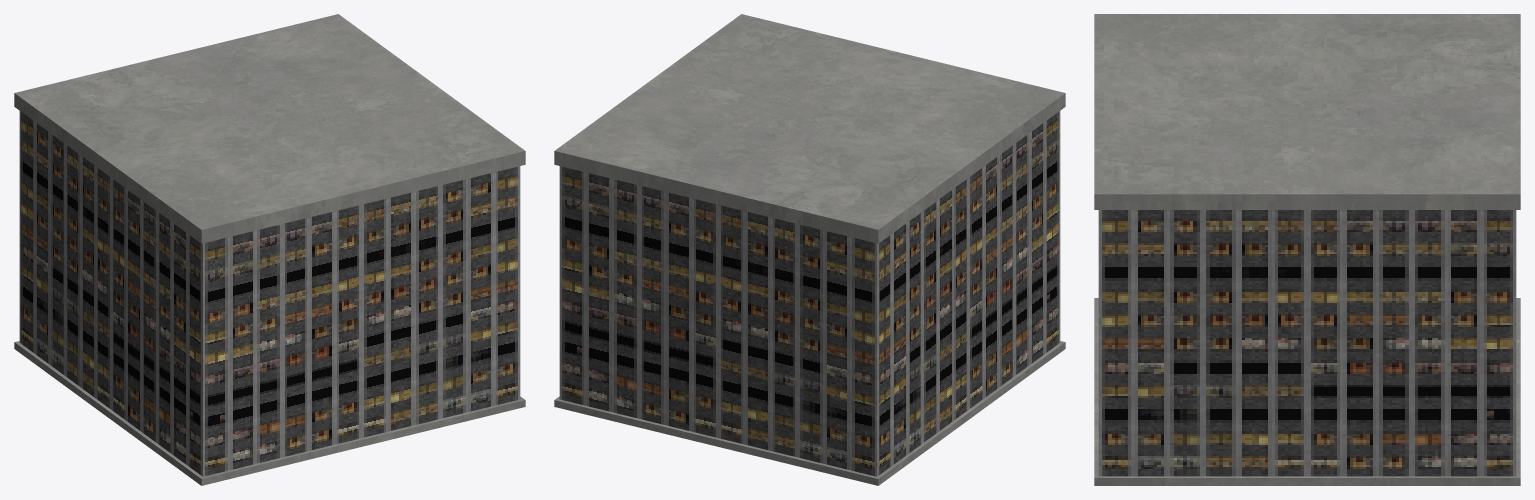
Rendered from building_01.4.glb.
3 views of the same model, side by side, from view 1: azimuth 30°, elevation 25°; view 2: azimuth 150°, elevation 25°; view 3: azimuth 270°, elevation 25° (orthographic). The views are drawn at different scales.
Visible parts, largest first — view 1: building_01_42; view 2: building_01_42; view 3: building_01_42.
Boxes of the visible parts, x1,y1,x2,y2 form: building_01_42: [14, 14, 525, 485]; building_01_42: [554, 14, 1065, 485]; building_01_42: [1094, 14, 1520, 485].
Size of the model in its own units: 49 by 37 by 49.
1 material, 1 textured.
